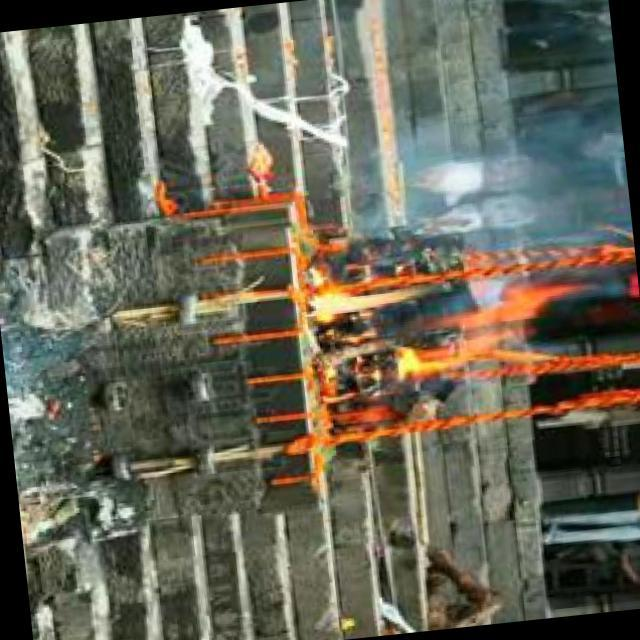Fire: (302, 258, 570, 394)
